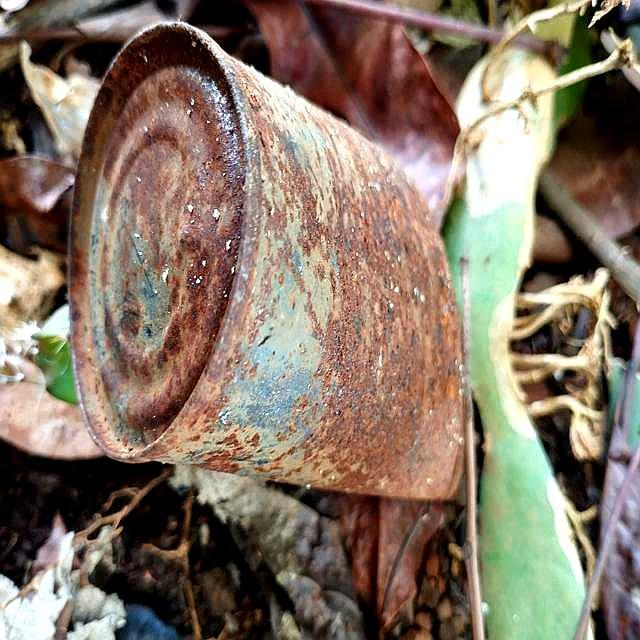Non-biodegradable: (65, 20, 470, 502)
